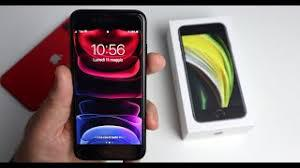Hand: (22, 53, 163, 168)
Smartphone: (68, 13, 144, 156), (3, 7, 85, 102), (178, 25, 245, 117)
